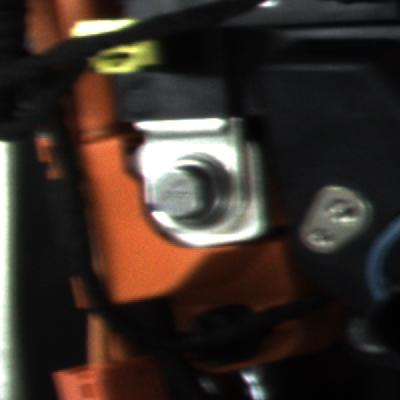nut_b: (143, 155, 245, 237)
